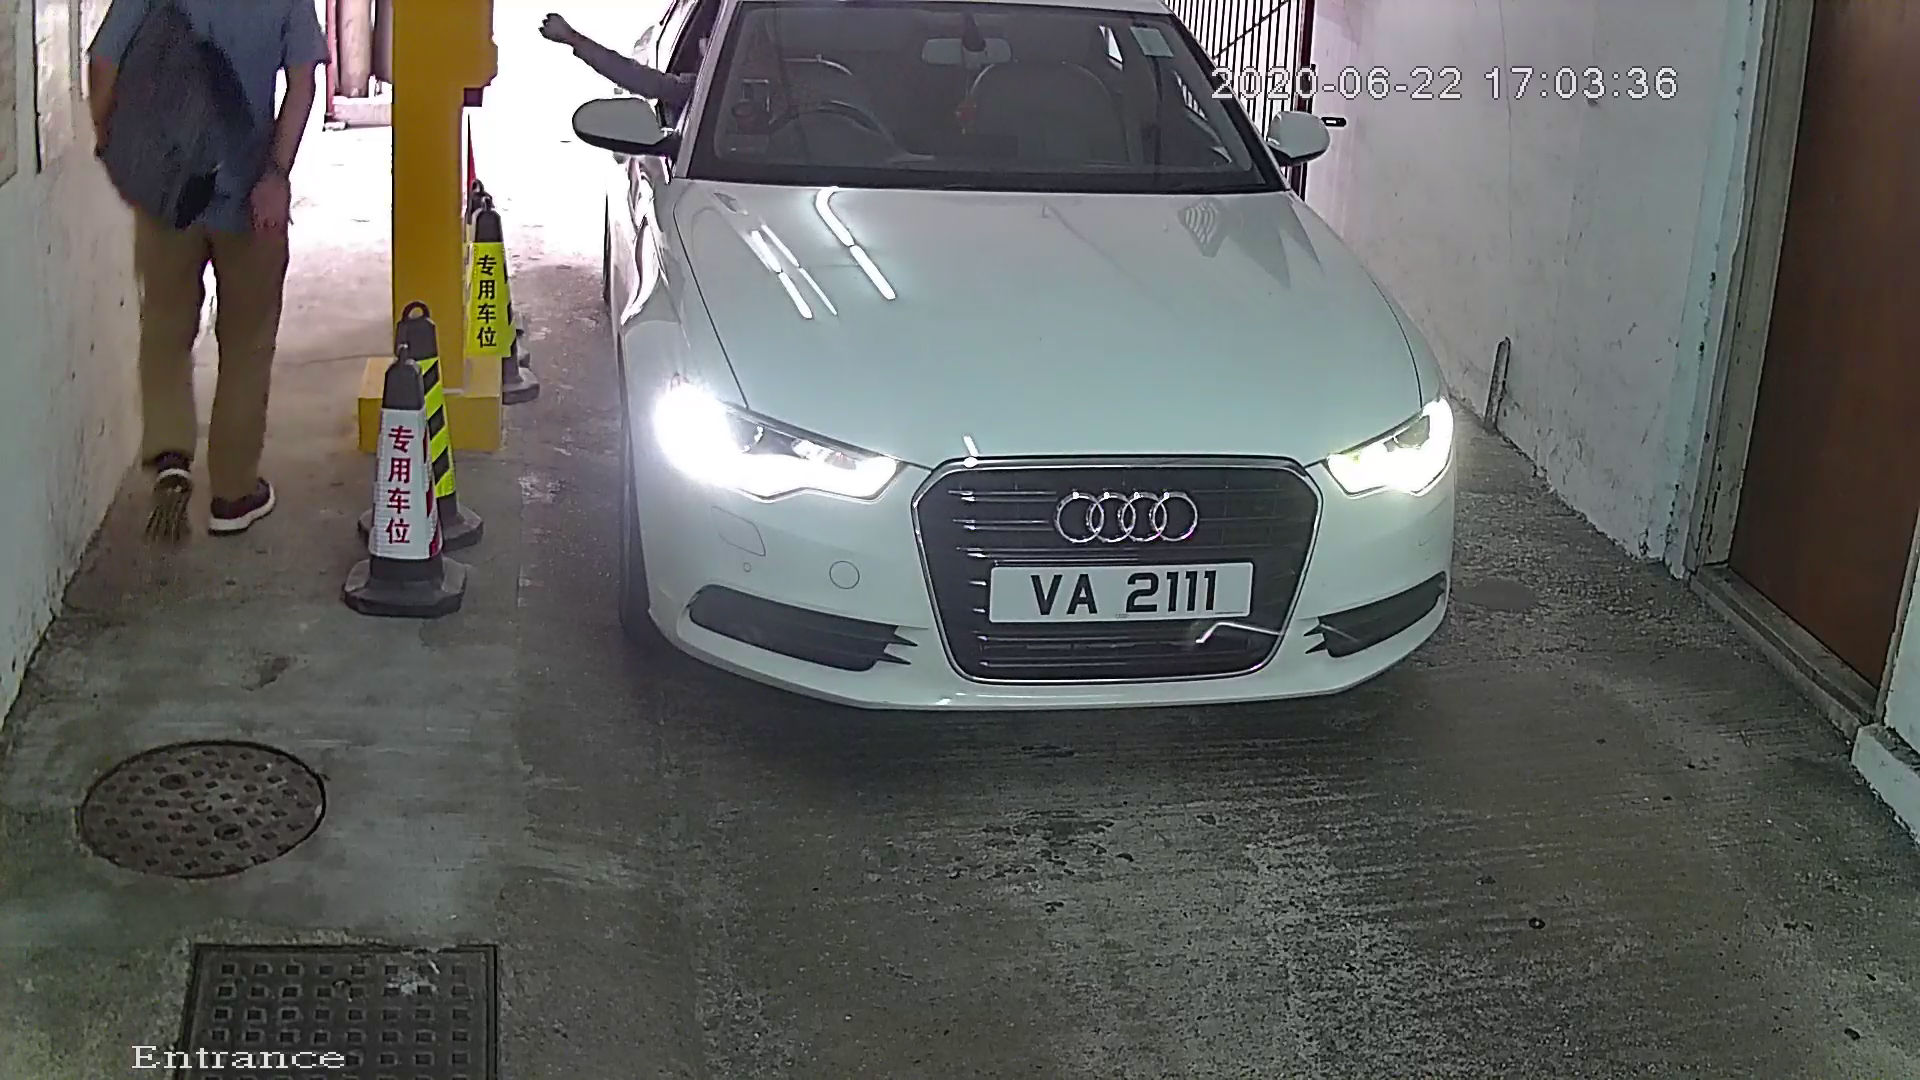privatecar: (501, 3, 1487, 785)
